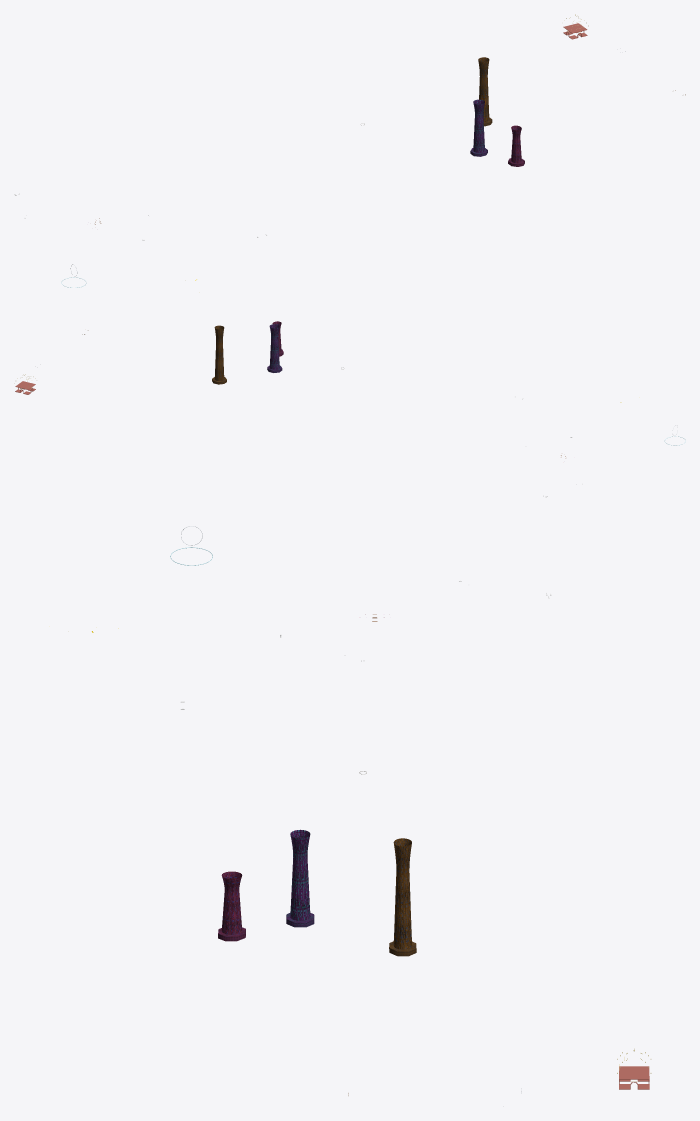
The model's file is pack_21.glb.
3 views of the same model, one above another, from view 1: azimuth 30°, elevation 25°; view 2: azimuth 150°, elevation 25°; view 3: azimuth 270°, elevation 25° (orthographic). The views are drawn at different scales.
Parts seen in each view (by area): view 1: pack_21; view 2: pack_21; view 3: pack_21.
Boxes of the visible parts, x1,y1,x2,y2 form: pack_21: [14, 14, 685, 287]; pack_21: [14, 321, 685, 497]; pack_21: [92, 526, 651, 1095].
Size of the model in its own units: 2185 by 195 by 987.
16 materials, 3 textured.
